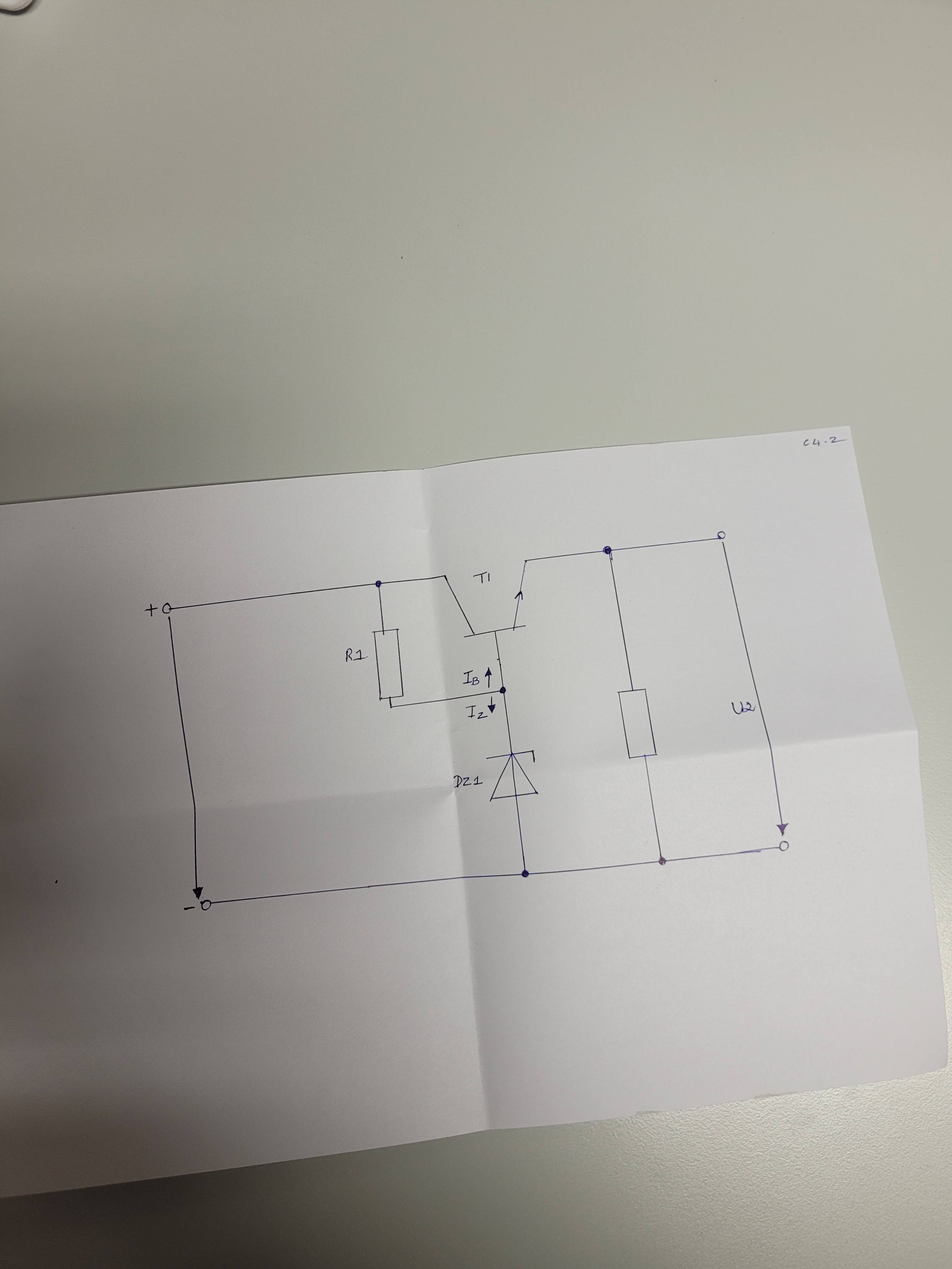diode.zener: (484, 748, 541, 804)
explanatory: (721, 540, 791, 837), (167, 614, 205, 900), (486, 695, 497, 714), (484, 666, 493, 689)
junction: (518, 867, 532, 881), (601, 543, 614, 557), (656, 854, 669, 867), (372, 578, 383, 589), (498, 685, 508, 694), (388, 704, 395, 711)
resistor: (616, 684, 659, 760), (373, 627, 404, 701)
terminal: (775, 839, 791, 853), (198, 898, 212, 912), (714, 529, 728, 542), (161, 601, 173, 615)
text: (451, 773, 484, 790), (729, 697, 756, 716), (343, 645, 366, 664), (465, 703, 489, 721), (462, 668, 481, 687), (472, 568, 492, 585), (143, 603, 159, 618), (181, 905, 197, 913)
transistor.bjt: (441, 557, 529, 640)
